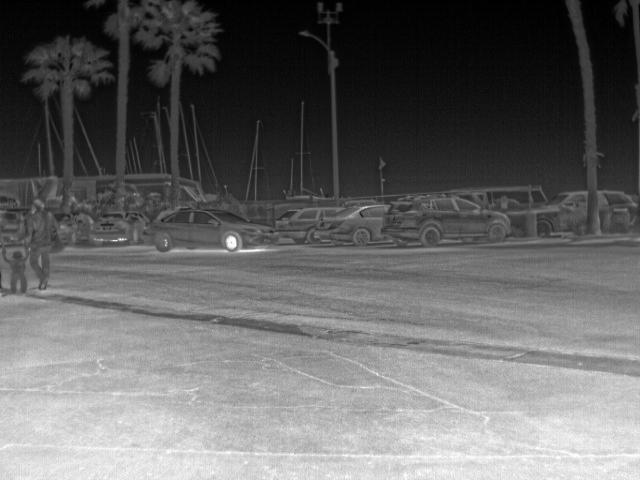car: (384, 194, 513, 244), (147, 206, 278, 250), (317, 204, 394, 246), (276, 206, 353, 244), (540, 191, 588, 237), (91, 211, 145, 246), (601, 190, 639, 234), (488, 183, 548, 209)
person: (24, 198, 54, 286), (4, 248, 33, 290)
